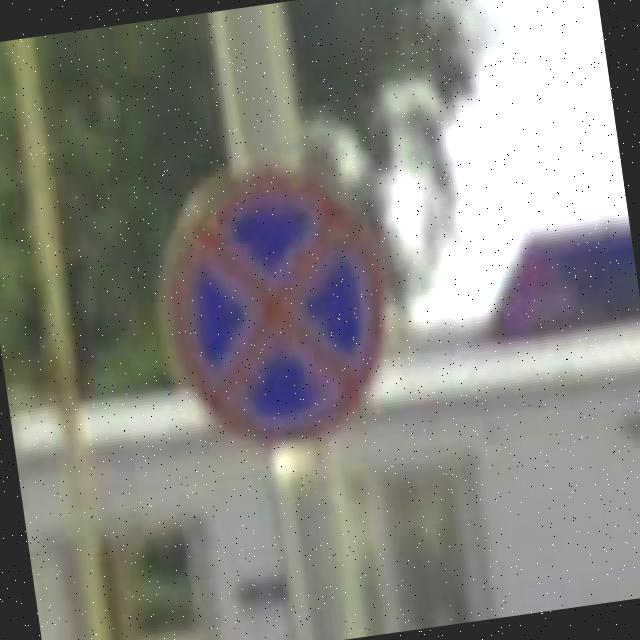Zakaz zatrzymywania sie: (149, 158, 405, 458)
